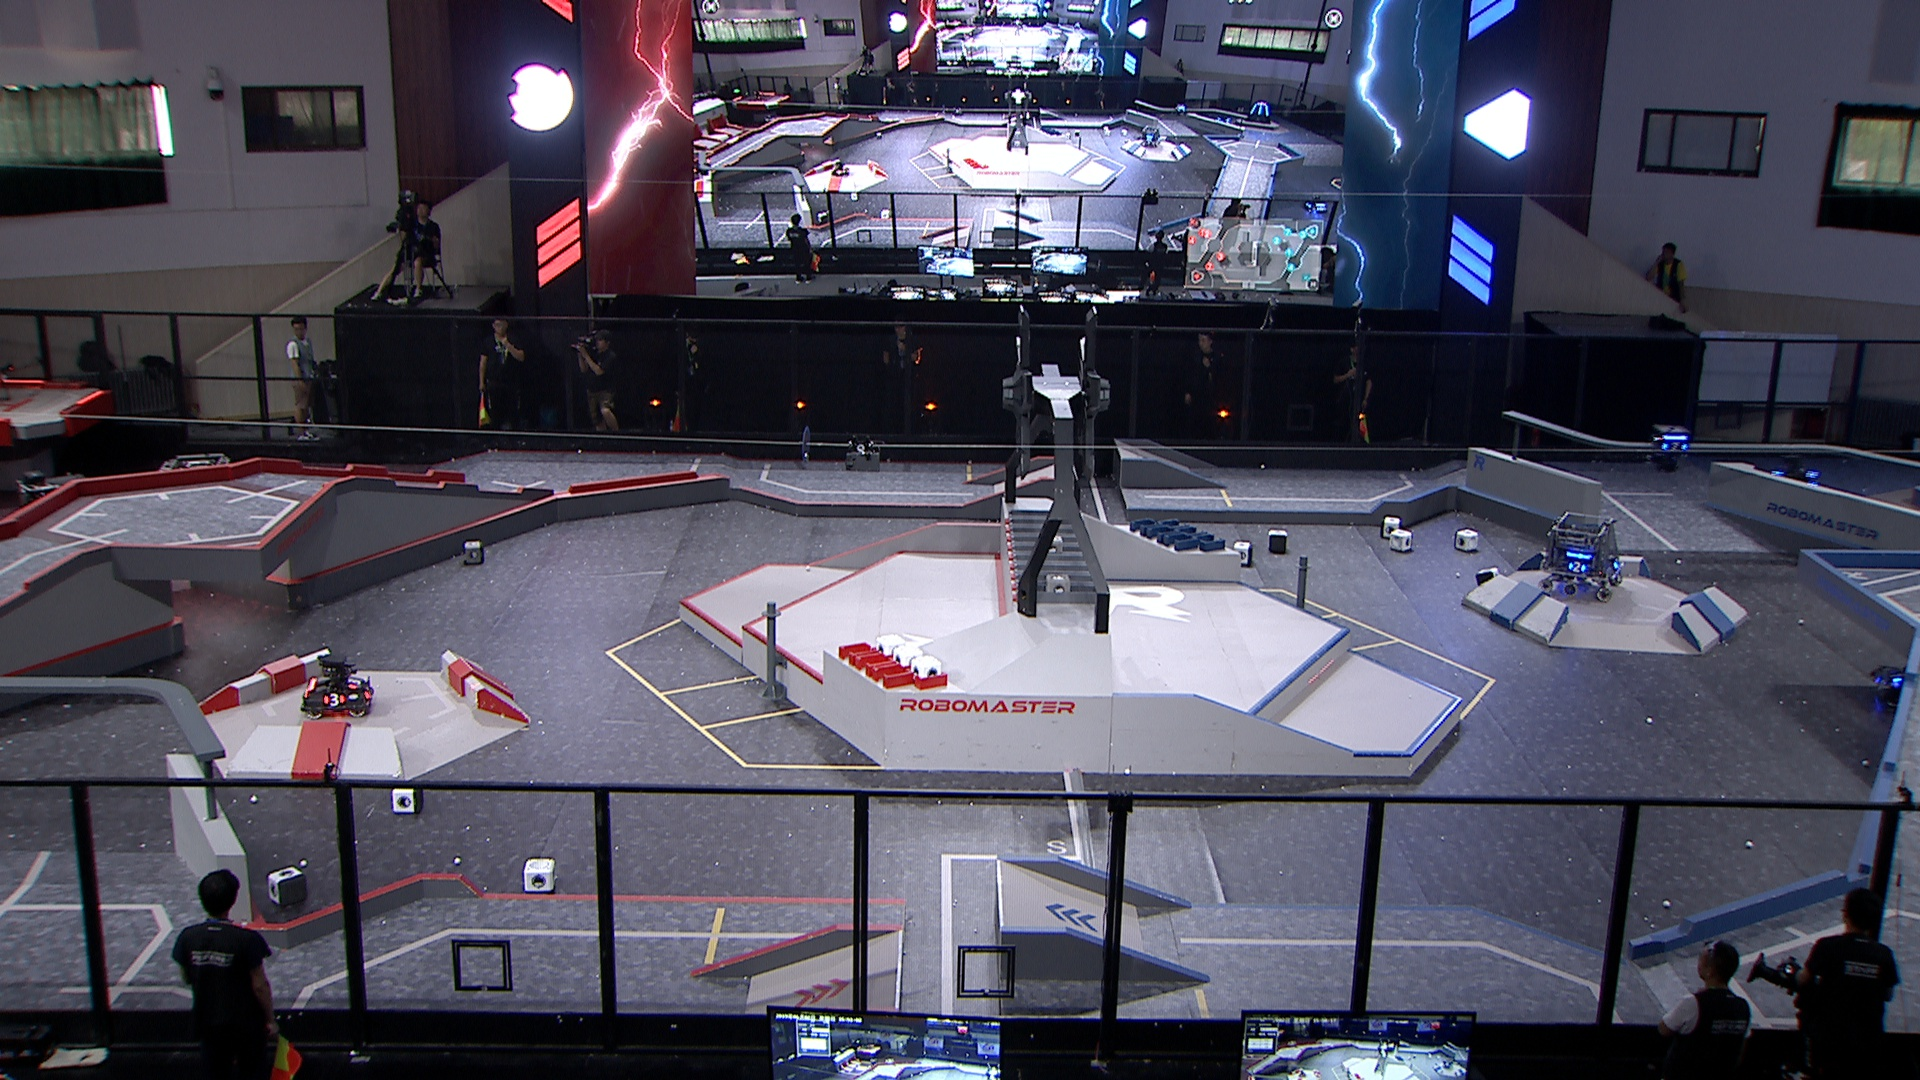armor: (318, 690, 348, 708), (1658, 440, 1692, 455), (1887, 669, 1907, 688), (344, 674, 363, 692), (1567, 560, 1589, 574)
car: (1538, 510, 1629, 600), (150, 447, 239, 533), (13, 465, 105, 547), (299, 654, 376, 723), (1870, 644, 1920, 717), (1762, 451, 1822, 498)
ignore: (1244, 100, 1275, 124), (1139, 124, 1166, 148), (1302, 195, 1329, 215), (828, 158, 852, 178)
watcher: (1647, 422, 1700, 476)
